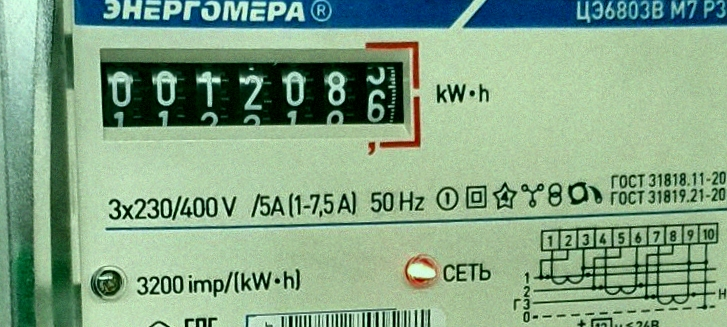0: (151, 65, 181, 109), (108, 66, 134, 109), (282, 68, 307, 108)
1: (196, 67, 220, 109)
2: (239, 72, 266, 112)
6: (362, 86, 388, 123)
8: (324, 67, 348, 108)
screen: (89, 20, 434, 174)
